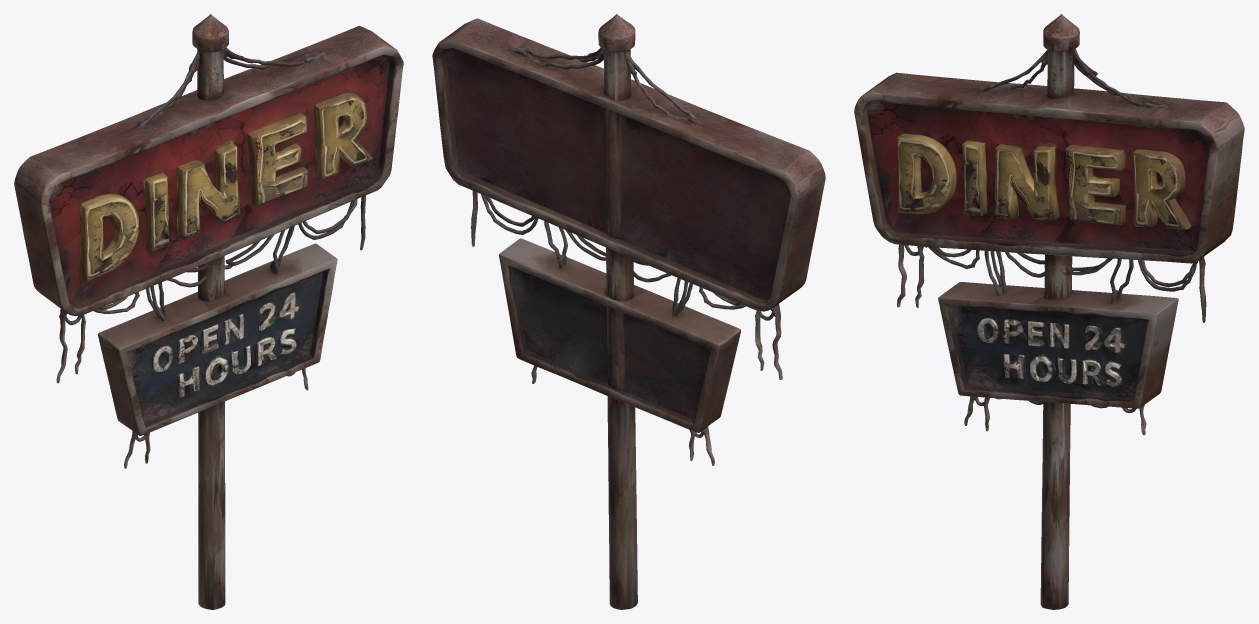
File: sign_diner_idle.glb
3 renders of one model, left to right at view 1: azimuth 30°, elevation 25°; view 2: azimuth 150°, elevation 25°; view 3: azimuth 330°, elevation 25°, orthographic.
Visible parts, largest first — view 1: tripo_node_e9829d5f-197f-41c2-beb1-e39b7925217b; view 2: tripo_node_e9829d5f-197f-41c2-beb1-e39b7925217b; view 3: tripo_node_e9829d5f-197f-41c2-beb1-e39b7925217b.
Part boxes in pixels (x1=…): tripo_node_e9829d5f-197f-41c2-beb1-e39b7925217b: x1=14, y1=14, x2=403, y2=609; tripo_node_e9829d5f-197f-41c2-beb1-e39b7925217b: x1=432, y1=14, x2=825, y2=609; tripo_node_e9829d5f-197f-41c2-beb1-e39b7925217b: x1=854, y1=14, x2=1244, y2=609.
Size of the model in its own units: 3.24 by 5 by 0.4491.
Materials: 1 (1 with a texture image).
